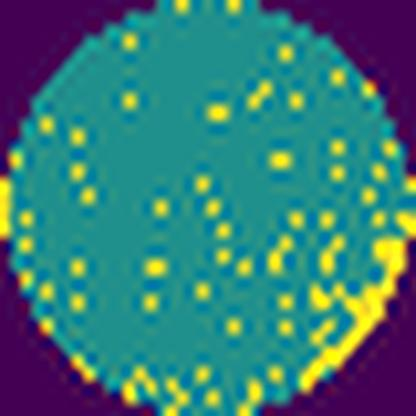Edge-Loc: (295, 207, 415, 395)
